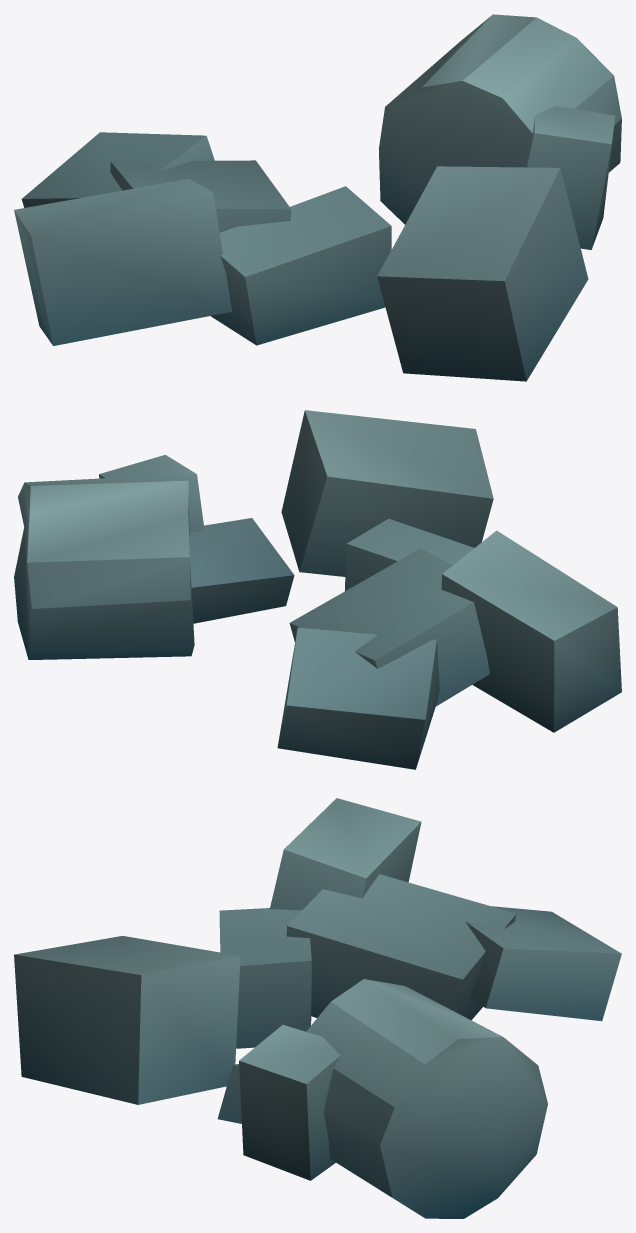
Rendered from ruin_rubble_b.glb.
3 views of the same model, one above another, from view 1: azimuth 30°, elevation 25°; view 2: azimuth 150°, elevation 25°; view 3: azimuth 270°, elevation 25° (orthographic). The views are drawn at different scales.
Parts seen in each view (by area): view 1: ruin_rubble_b_stone; view 2: ruin_rubble_b_stone; view 3: ruin_rubble_b_stone.
Boxes of the visible parts, x1,y1,x2,y2 form: ruin_rubble_b_stone: [14, 14, 621, 381]; ruin_rubble_b_stone: [14, 410, 621, 769]; ruin_rubble_b_stone: [14, 798, 621, 1218].
Bounding box in the file's own units: 4.94 × 1.41 × 4.2.
